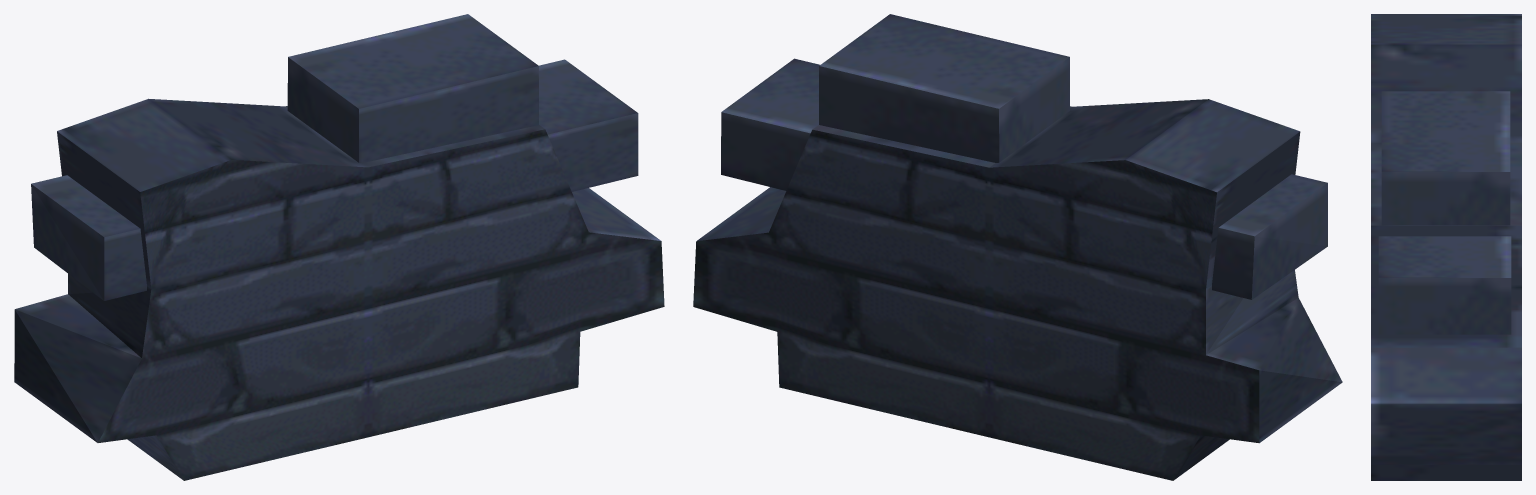
Rendered from Ice_wallBK.FBX.
3 renders of one model, left to right at view 1: azimuth 30°, elevation 25°; view 2: azimuth 150°, elevation 25°; view 3: azimuth 270°, elevation 25°, orthographic. The views are drawn at different scales.
Parts seen in each view (by area): view 1: Object15659; view 2: Object15659; view 3: Object15659.
Part boxes in pixels (x1,y1,x2,y2): Object15659: (14,14,664,480); Object15659: (693,14,1342,480); Object15659: (1371,14,1521,480).
Bounding box in the file's own units: 98.68 × 54.28 × 25.14.
